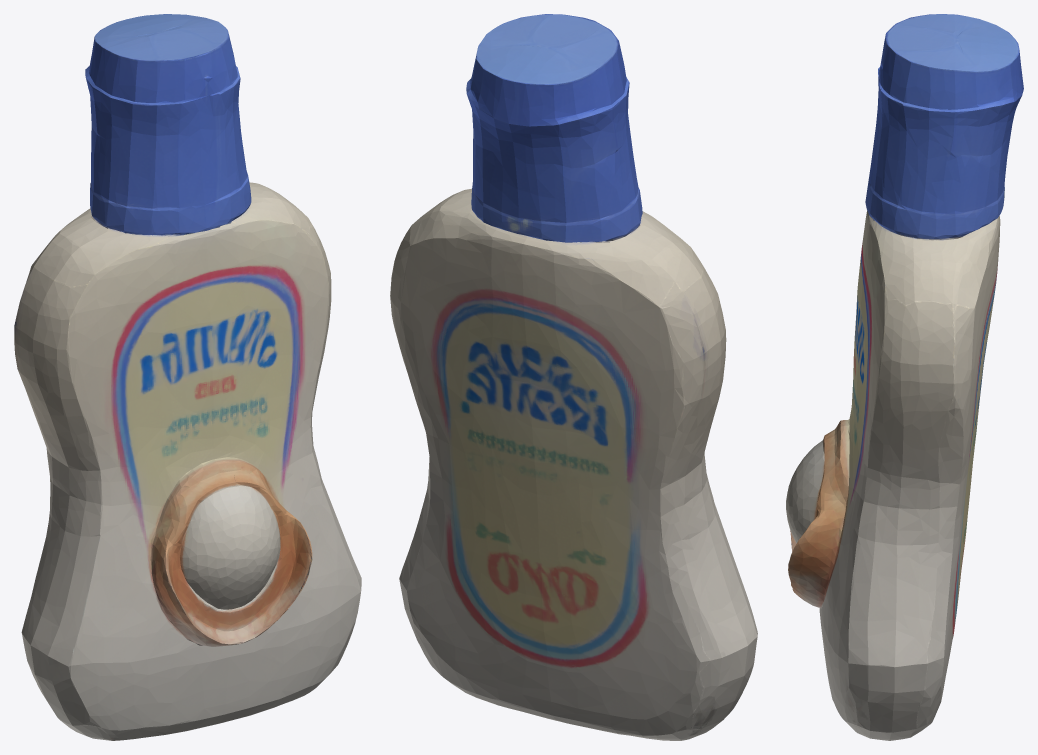
3 renders of one model, left to right at view 1: azimuth 30°, elevation 25°; view 2: azimuth 150°, elevation 25°; view 3: azimuth 270°, elevation 25°, orthographic. The views are drawn at different scales.
Parts seen in each view (by area): view 1: world; view 2: world; view 3: world.
Part boxes in pixels (box(x1,y1,x2,y2)): world: box(14, 14, 361, 740); world: box(390, 14, 757, 740); world: box(786, 14, 1023, 740).
Size of the model in its own units: 0.5156 by 1 by 0.3319.
Materials: 1 (1 with a texture image).
